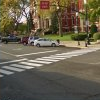crosswalk: (0, 48, 96, 77)
